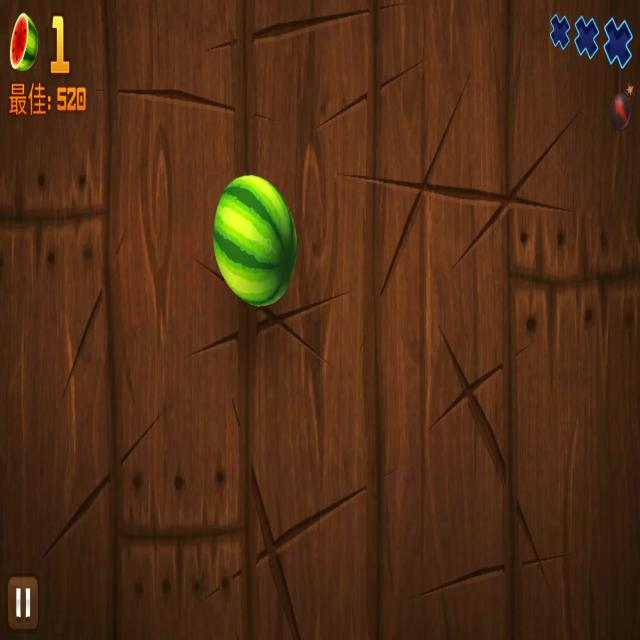fruit: (213, 173, 295, 311)
